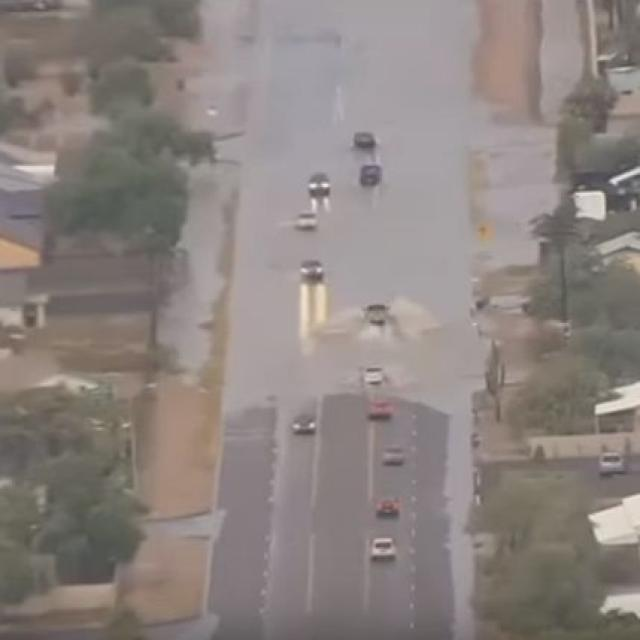flooded_areas: (231, 1, 494, 404)
